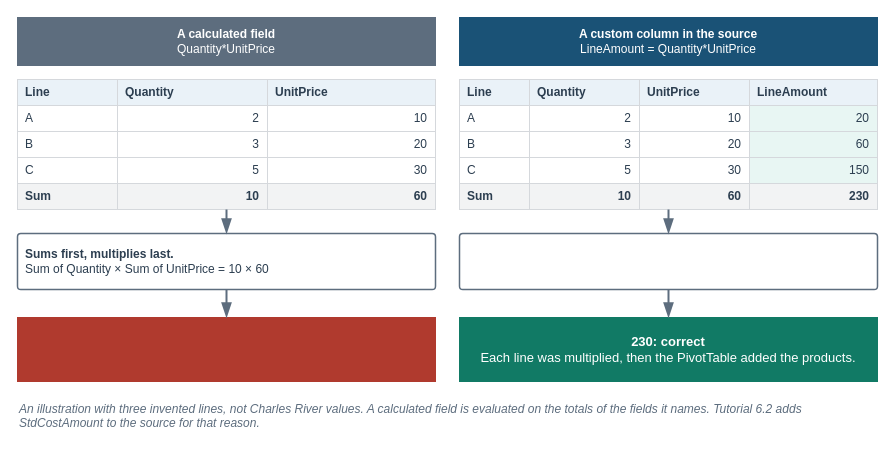
This 896x453 diagram has some shape labels left out. The centre of each missing label's shape, as x and y in pixels:
"600: wrong No line was multiplied; the result is not the revenue." goes at [226,349].
"Multiplies first, sums last. 2 × 10 + 3 × 20 + 5 × 30 = 20 + 60 + 150" goes at [668,261].
